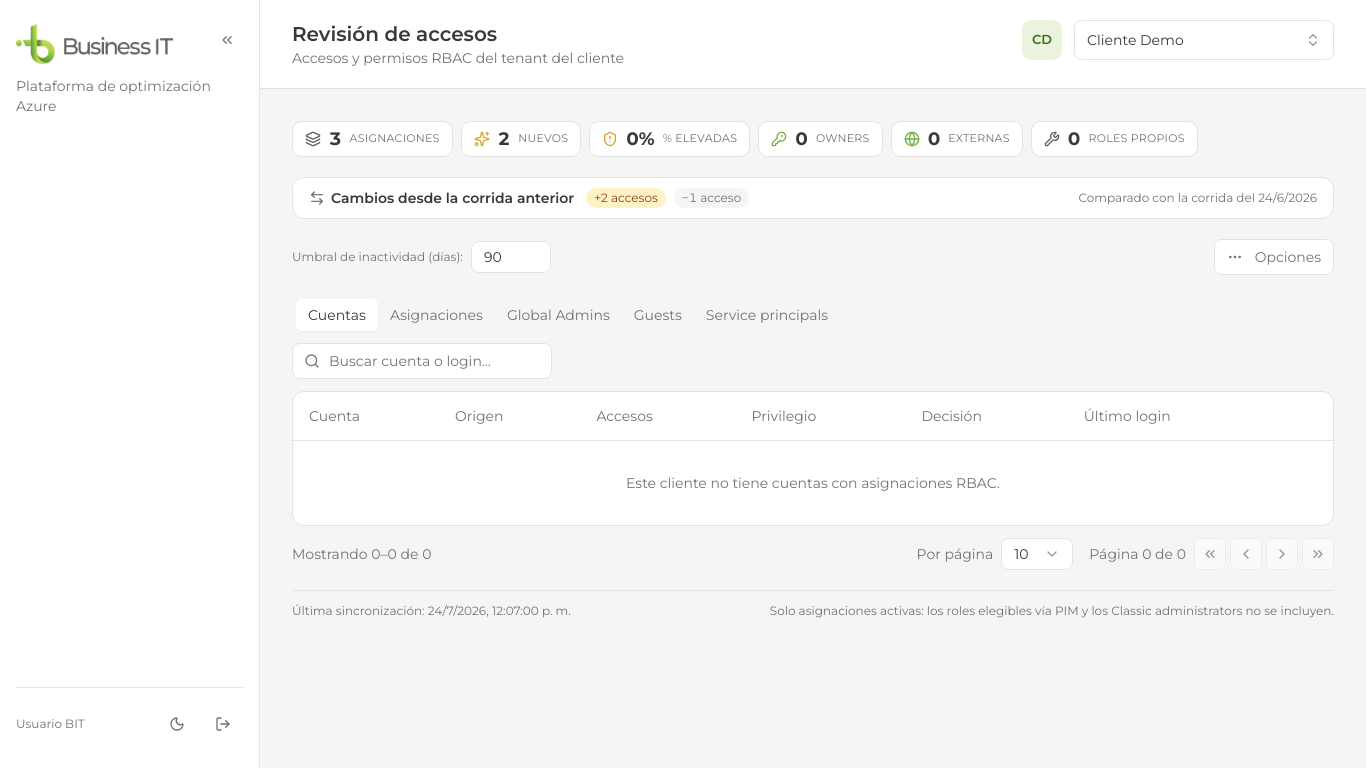
Asignaciones muestra el chip de decisión, con el arrastre en el title
Press the mouse on the tab "Asignaciones" at point(436, 315), box [378,299,495,331]
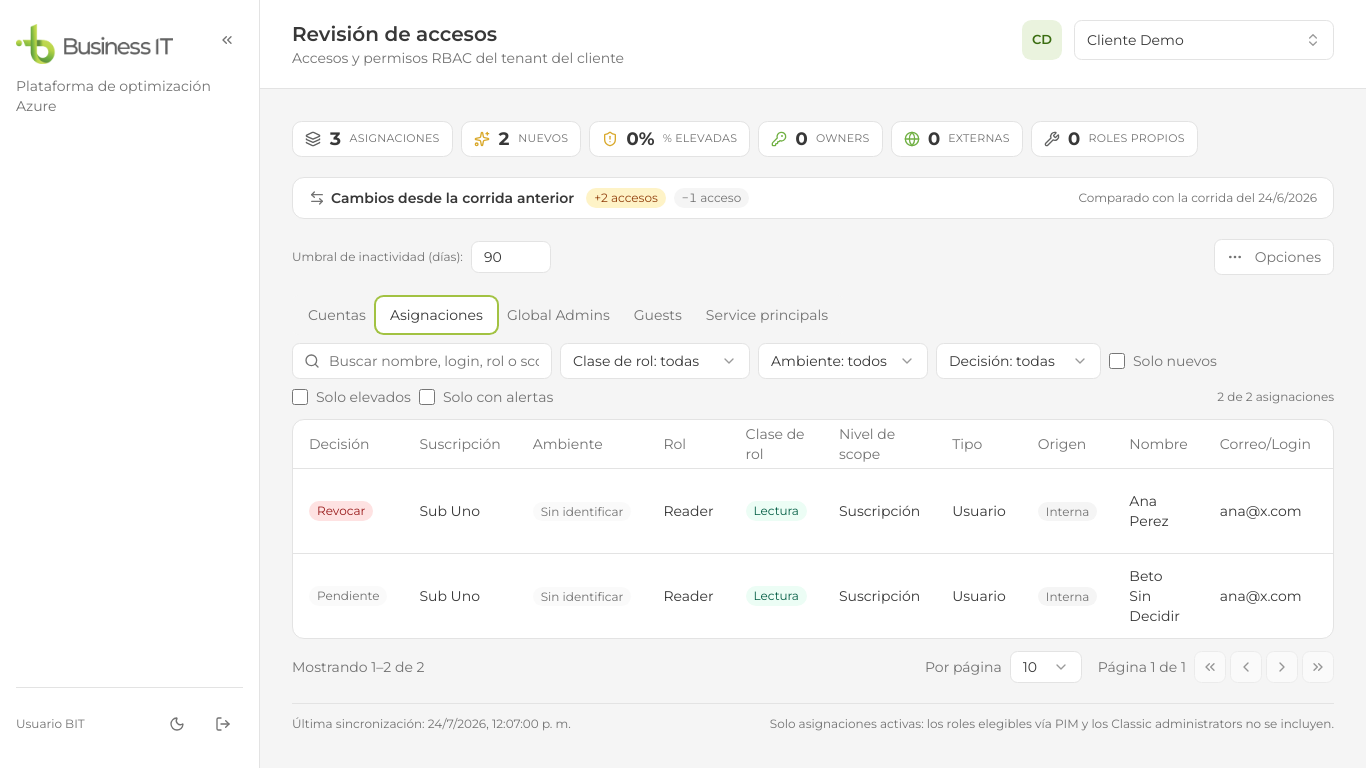
Check: the text "Pendiente" is shown, box [309,586,387,606]
